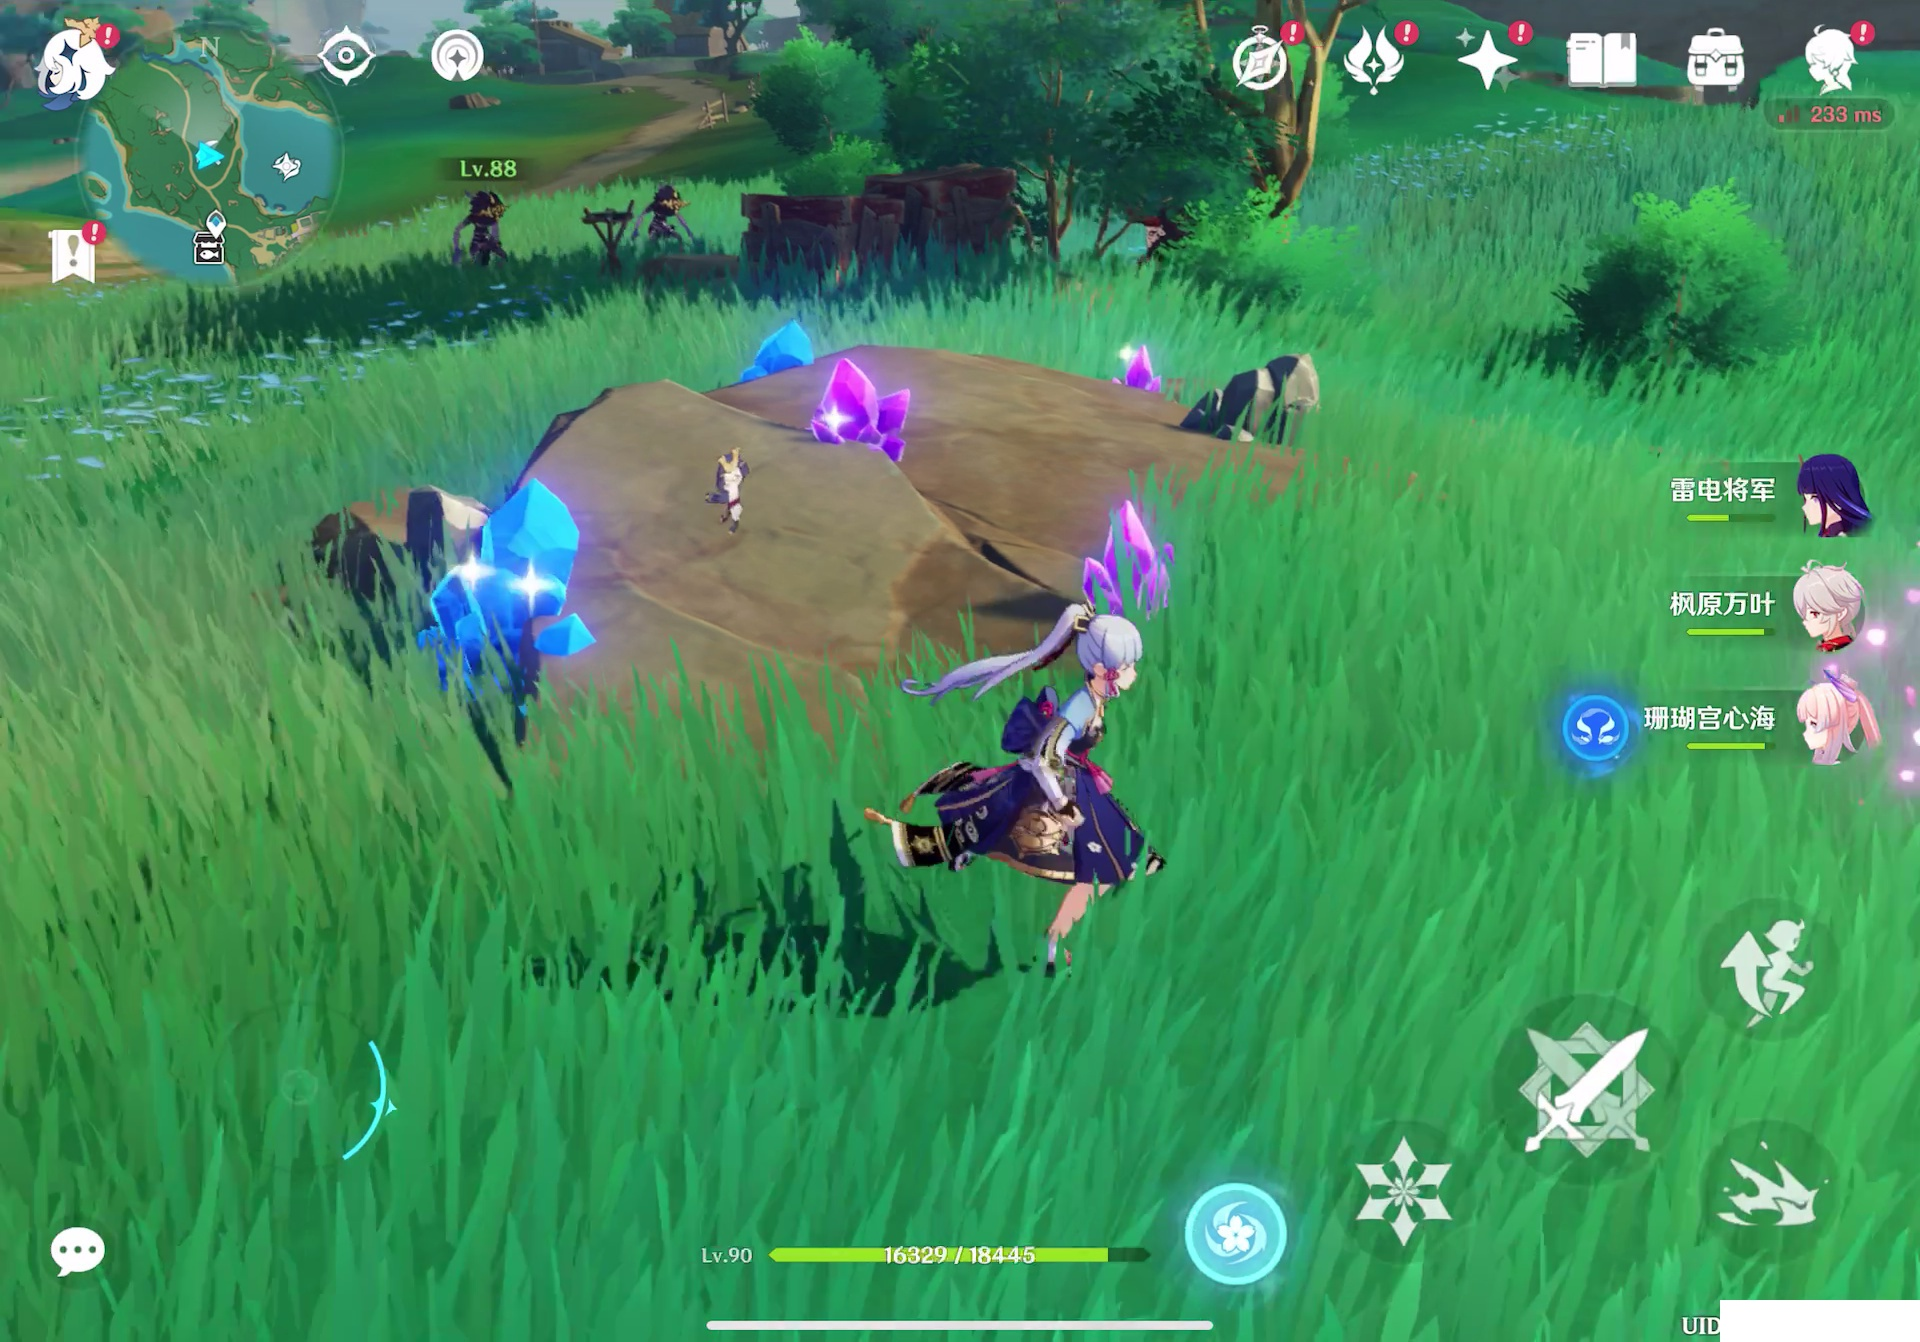丘丘人: (457, 191, 522, 276), (642, 177, 705, 252)
白铁矿石: (1198, 352, 1335, 445), (384, 476, 479, 548)
神里绫龟: (905, 600, 1161, 976)
紫矿石: (808, 353, 921, 459), (1085, 508, 1188, 613), (1118, 335, 1169, 404)
蓝矿石: (449, 513, 605, 686), (754, 314, 814, 381)
